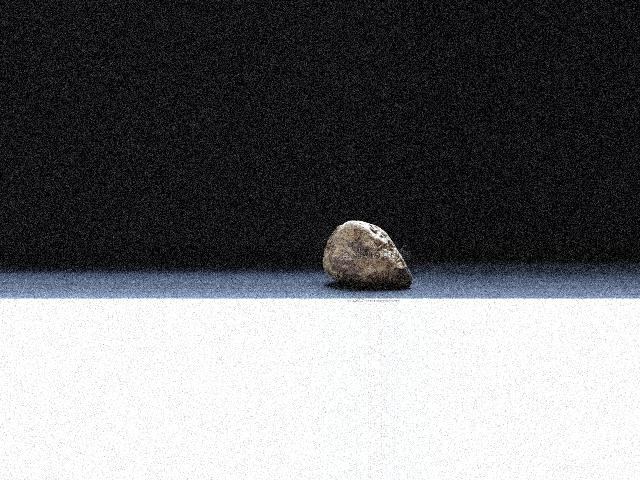beet: (321, 221, 410, 287)
